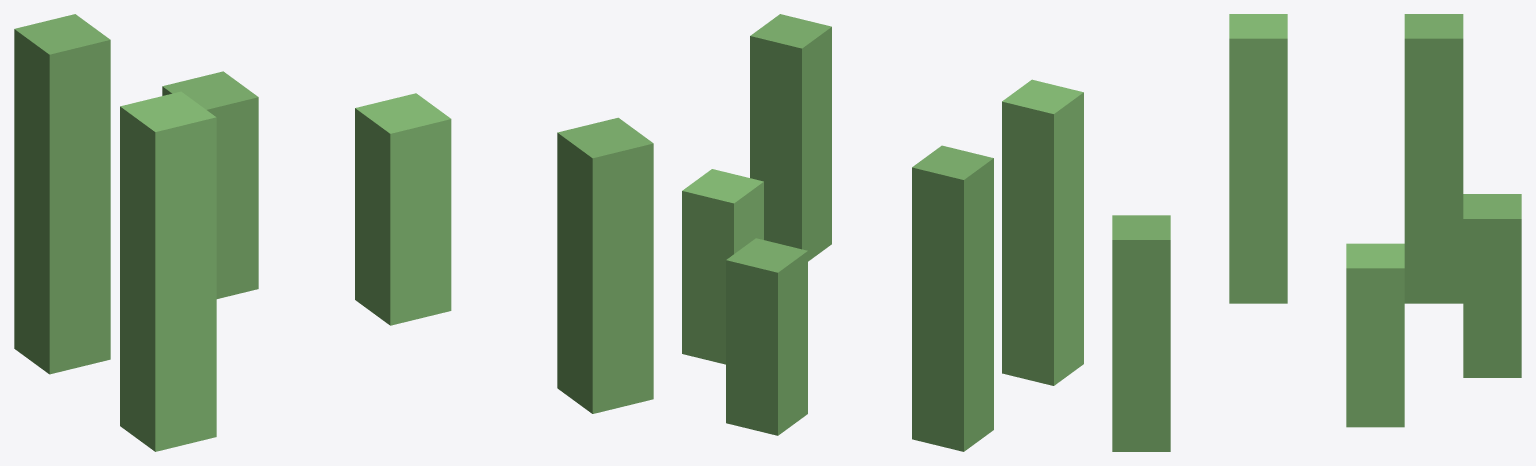
Rendered from trebol_10.glb.
3 renders of one model, left to right at view 1: azimuth 30°, elevation 25°; view 2: azimuth 150°, elevation 25°; view 3: azimuth 270°, elevation 25°, orthographic. The views are drawn at different scales.
Visible parts, largest first — view 1: trebol_10; view 2: trebol_10; view 3: trebol_10.
Boxes of the visible parts, x1,y1,x2,y2 form: trebol_10: [14, 14, 653, 451]; trebol_10: [682, 14, 1083, 451]; trebol_10: [1112, 14, 1521, 451].
Size of the model in its own units: 0.7 by 0.5 by 0.7.
